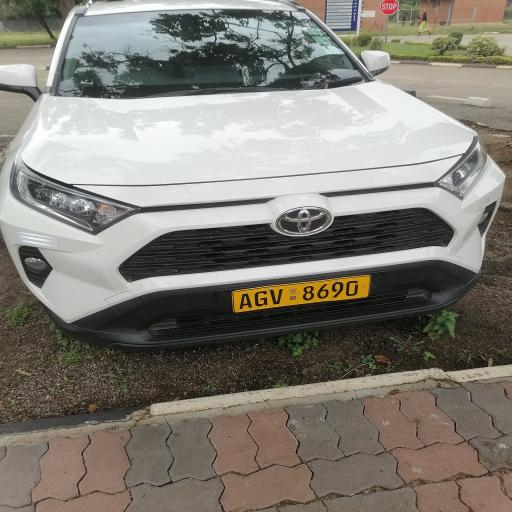number-plates: (232, 280, 369, 310)
